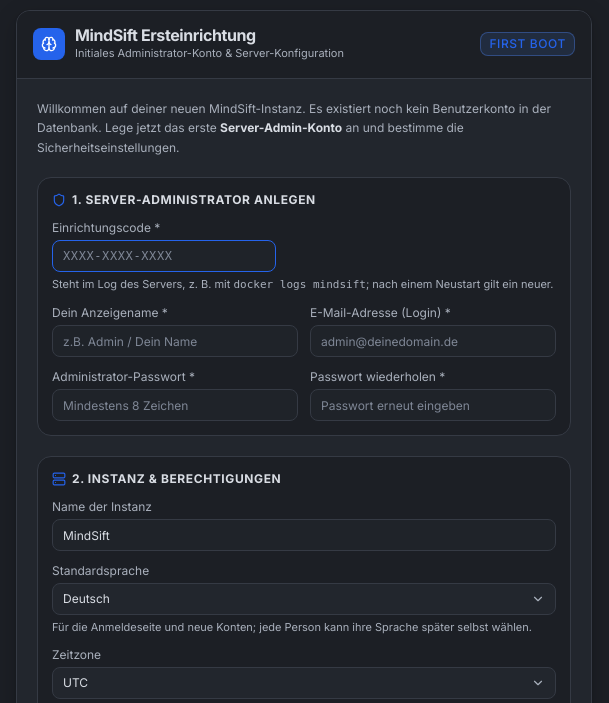
SetupWizardView › shows the server error for a wrong setup code
The image size is (609, 703).
Type "AAAA-BBBB-CCCC" into the field labelled "Einrichtungscode *" at [164, 256], box [52,240,276,272]
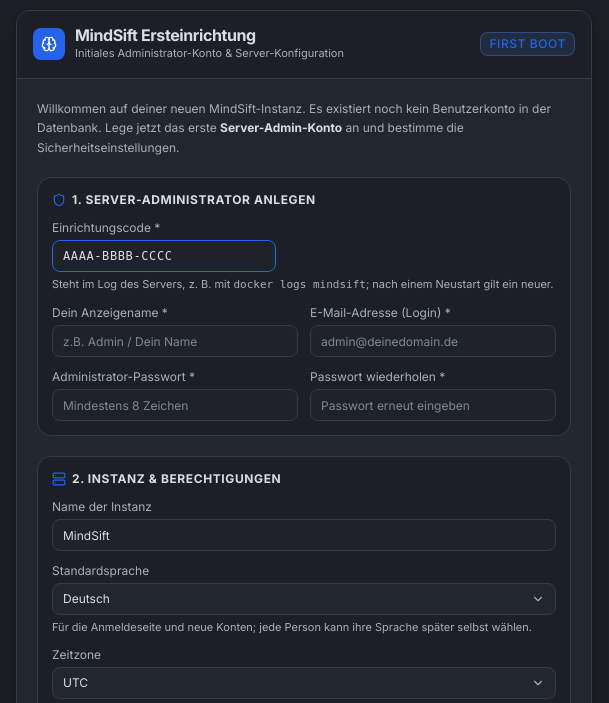
Type "Chef" into the field with placeholder "z.B. Admin / Dein Name" at [175, 341], box [52,325,298,357]
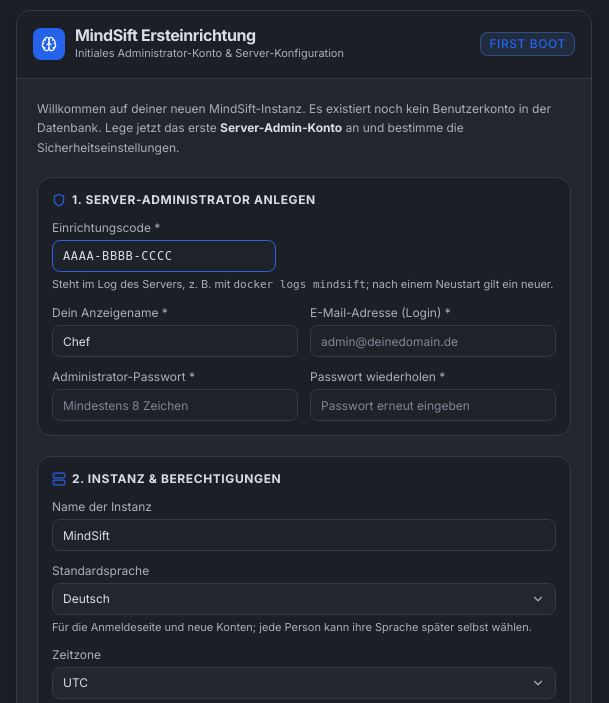
Type "chef@example.com" into the field with placeholder "admin@deinedomain.de" at [433, 341], box [310,325,556,357]
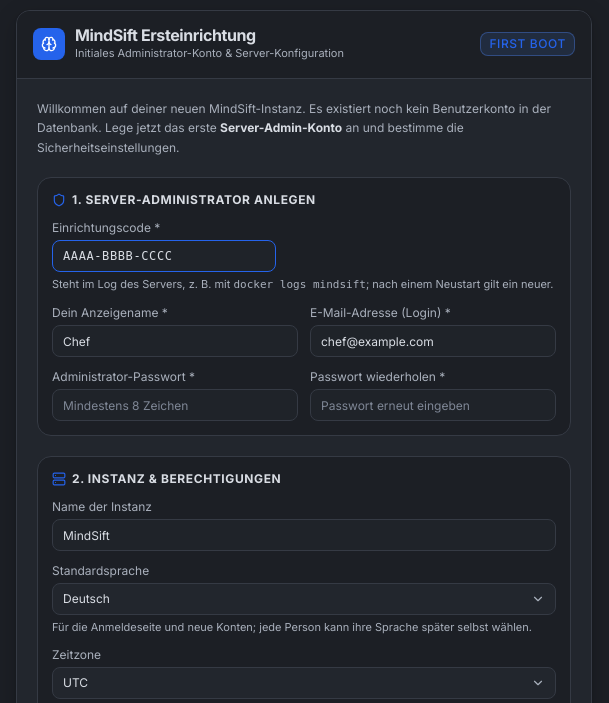
Type "geheim-genug" into the password field with placeholder "Passwort erneut eingeben" at [433, 405], box [310,389,556,421]
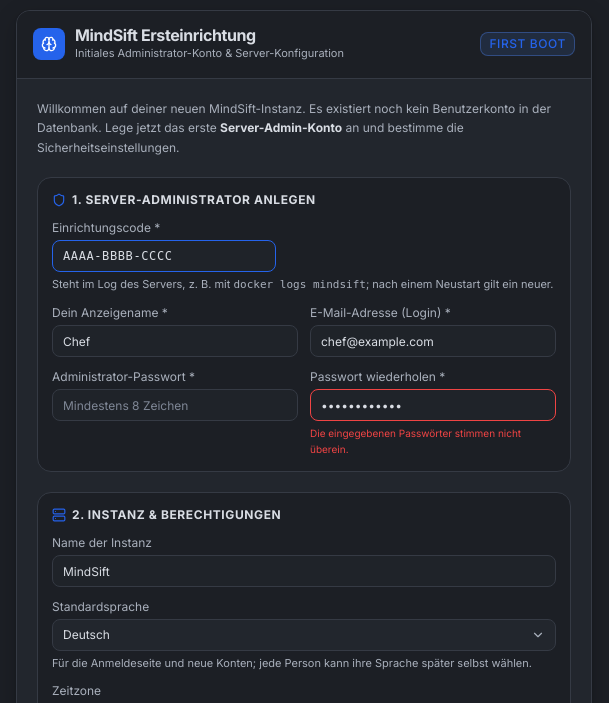
Type "geheim-genug" into the password field labelled "Administrator-Passwort *" at [175, 405], box [52,389,298,421]
(page scrolled)
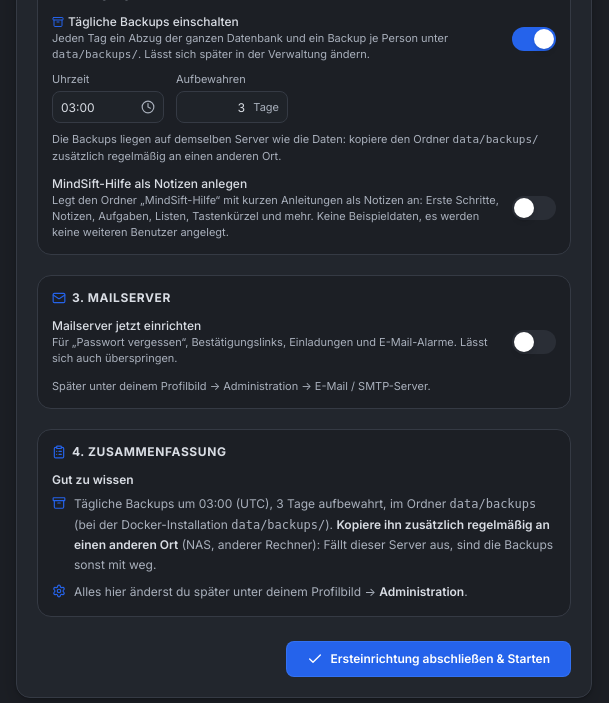
Click the button "Ersteinrichtung abschließen & Starten" at [428, 658], box [286,640,571,676]
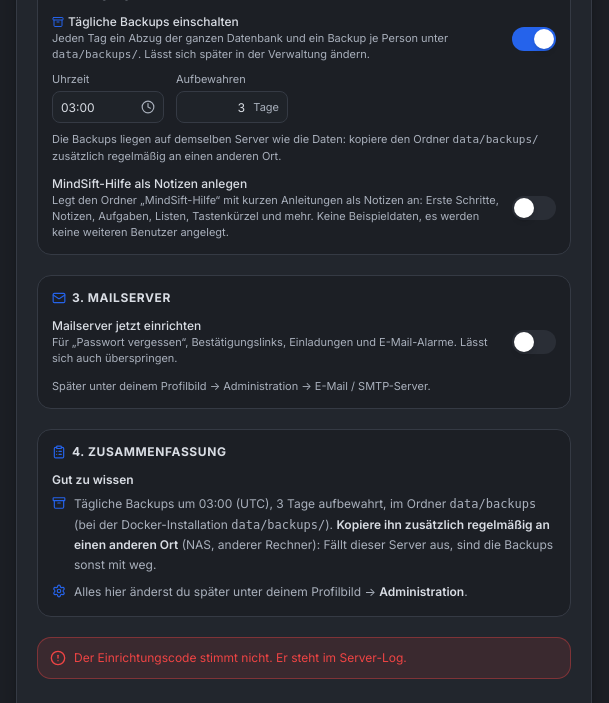
Check: the message shows "Der Einrichtungscode stimmt nicht", box [74,650,407,664]
